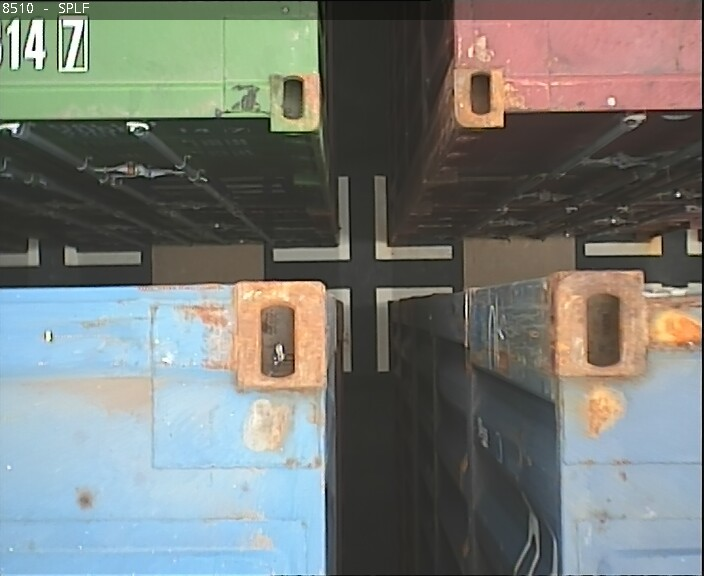groundmarker_1: (274, 178, 451, 262), (276, 285, 453, 369)
